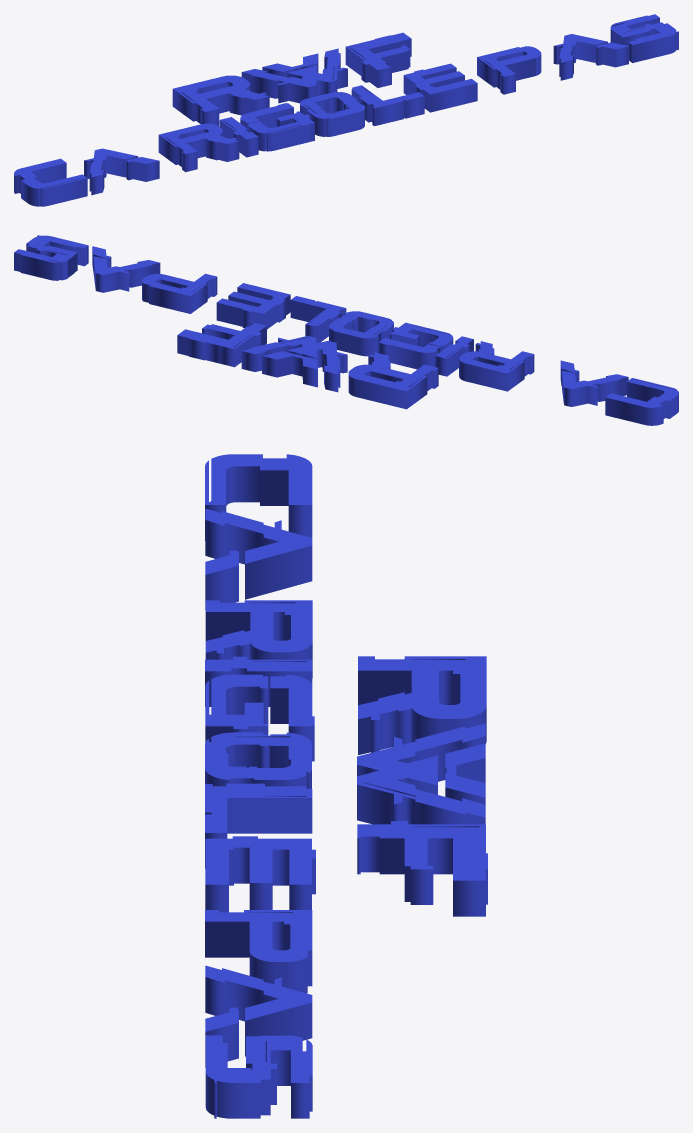
The model's file is testl.gltf.
3 renders of one model, top to bottom at view 1: azimuth 30°, elevation 25°; view 2: azimuth 150°, elevation 25°; view 3: azimuth 270°, elevation 25°, orthographic. The views are drawn at different scales.
Visible parts, largest first — view 1: SALU; view 2: SALU; view 3: SALU.
Boxes of the visible parts, x1,y1,x2,y2 form: SALU: (14, 14, 678, 206); SALU: (14, 235, 678, 425); SALU: (205, 454, 487, 1118).
Size of the model in its own units: 9.78 by 0.26 by 1.86.
